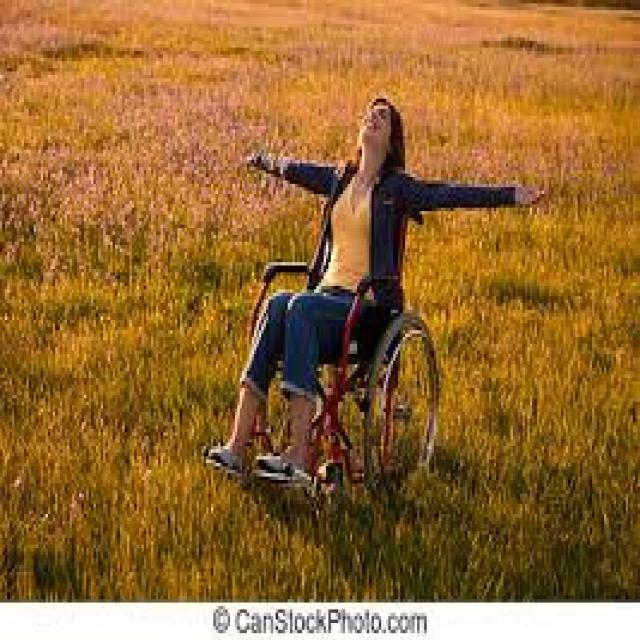wheelchairs: (204, 224, 446, 486)
